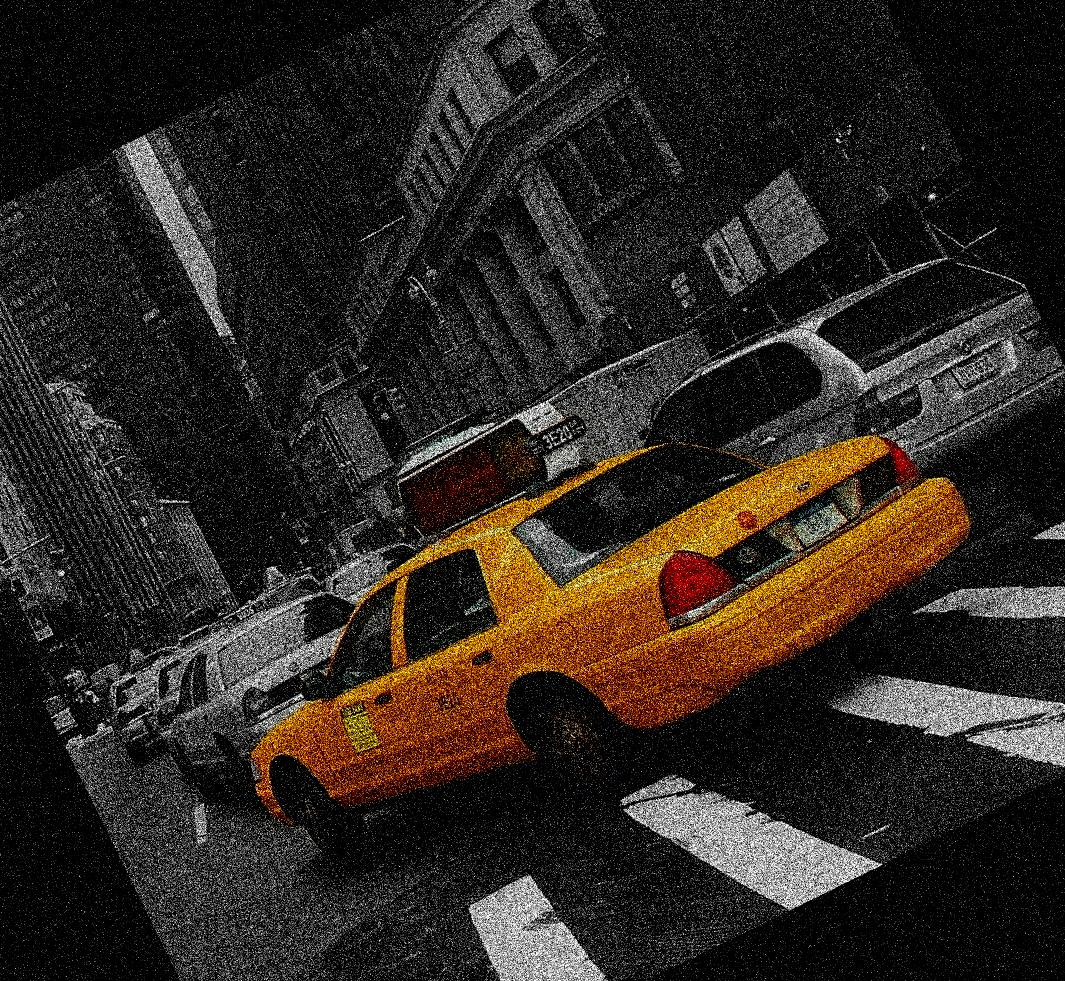taxi: (222, 405, 944, 878)
